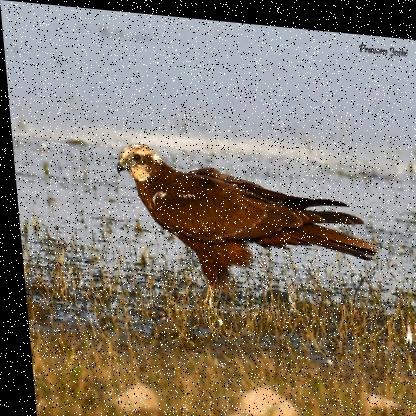Burung: (110, 138, 376, 308)
